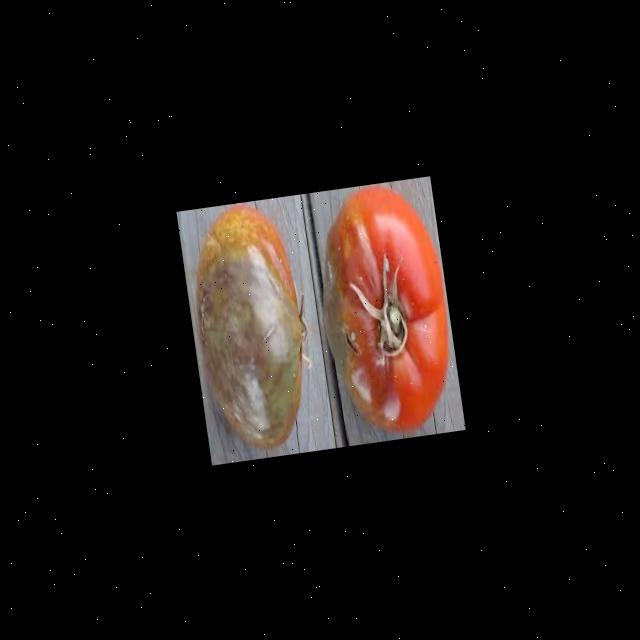tomato: (308, 176, 464, 440), (179, 196, 327, 458)
